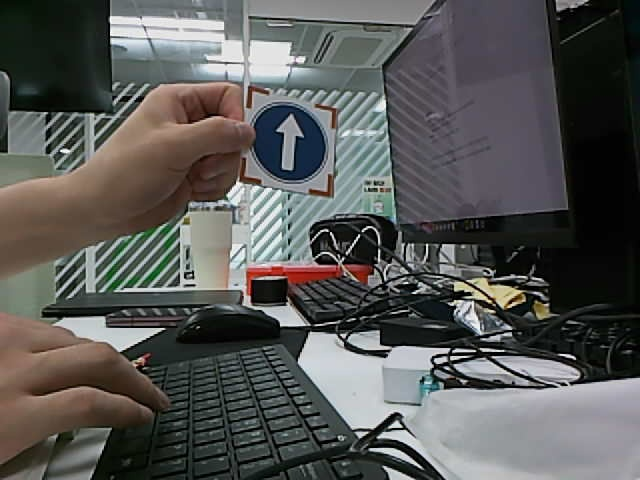go: (250, 102, 330, 184)
